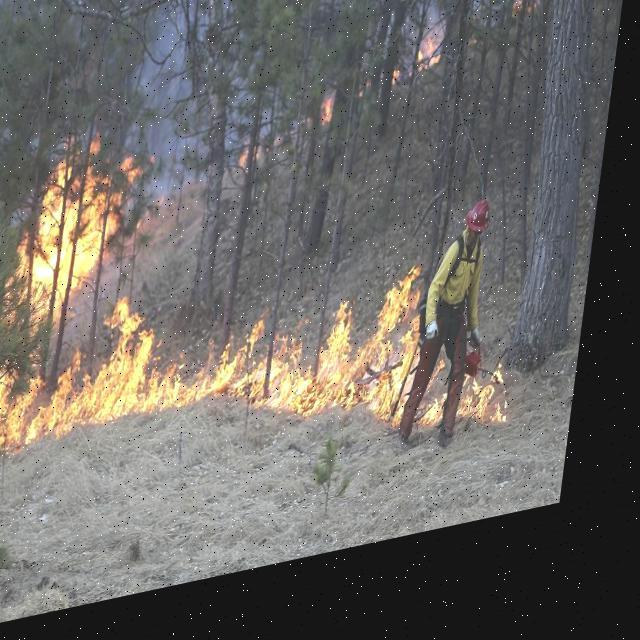Fire: (152, 235, 546, 519), (0, 107, 189, 464), (393, 51, 447, 104), (321, 106, 344, 149), (242, 154, 268, 192)
